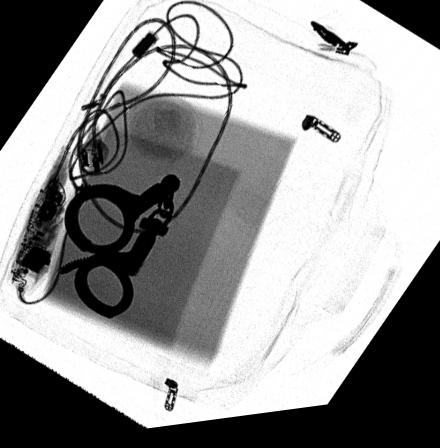HandCuffs: (57, 179, 181, 322)
